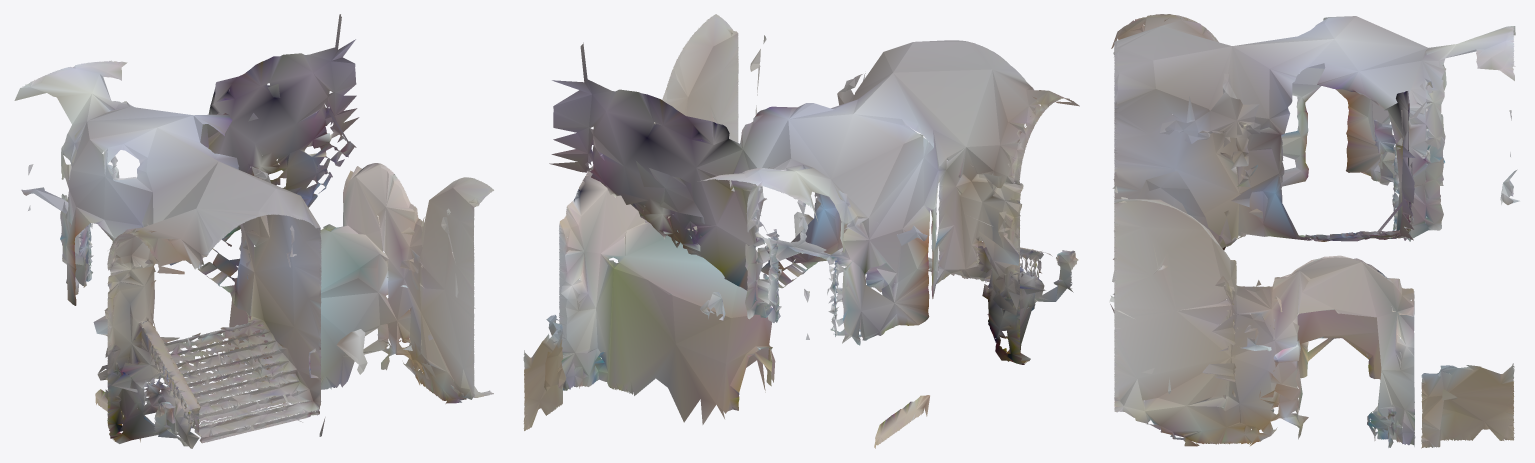
3 renders of one model, left to right at view 1: azimuth 30°, elevation 25°; view 2: azimuth 150°, elevation 25°; view 3: azimuth 270°, elevation 25°, orthographic. The views are drawn at different scales.
Bounding box in the file's own units: 10.6 × 9.61 × 10.3.
